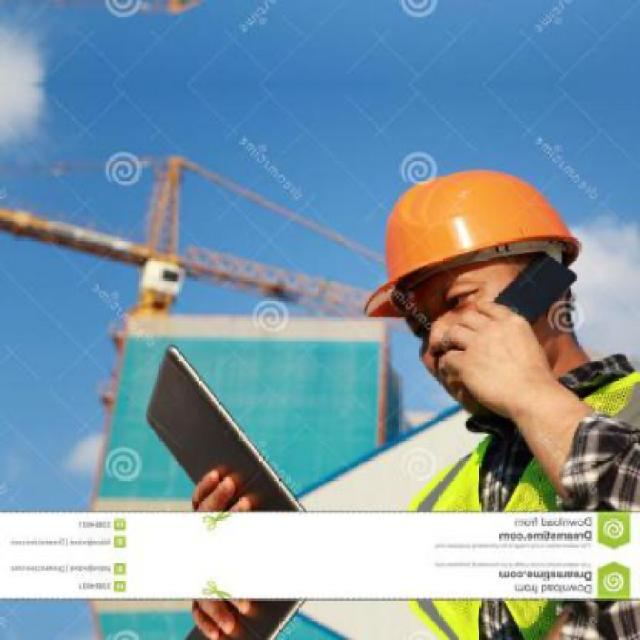helmet: (352, 143, 608, 408)
